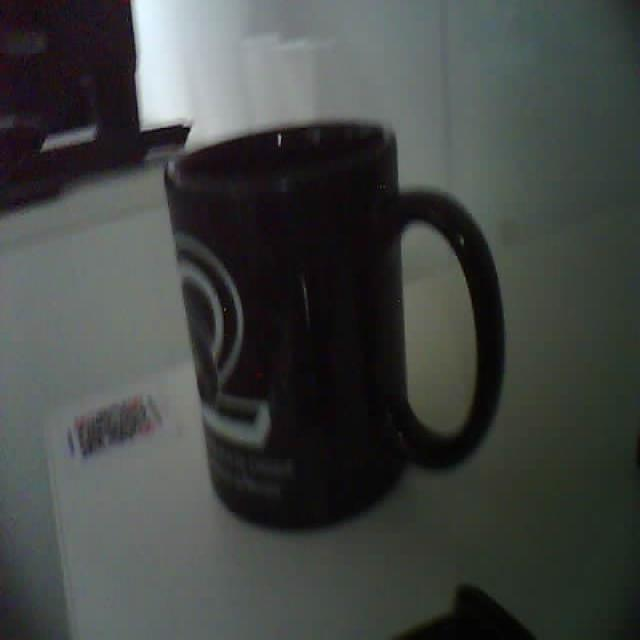caneca: (165, 123, 504, 525)
